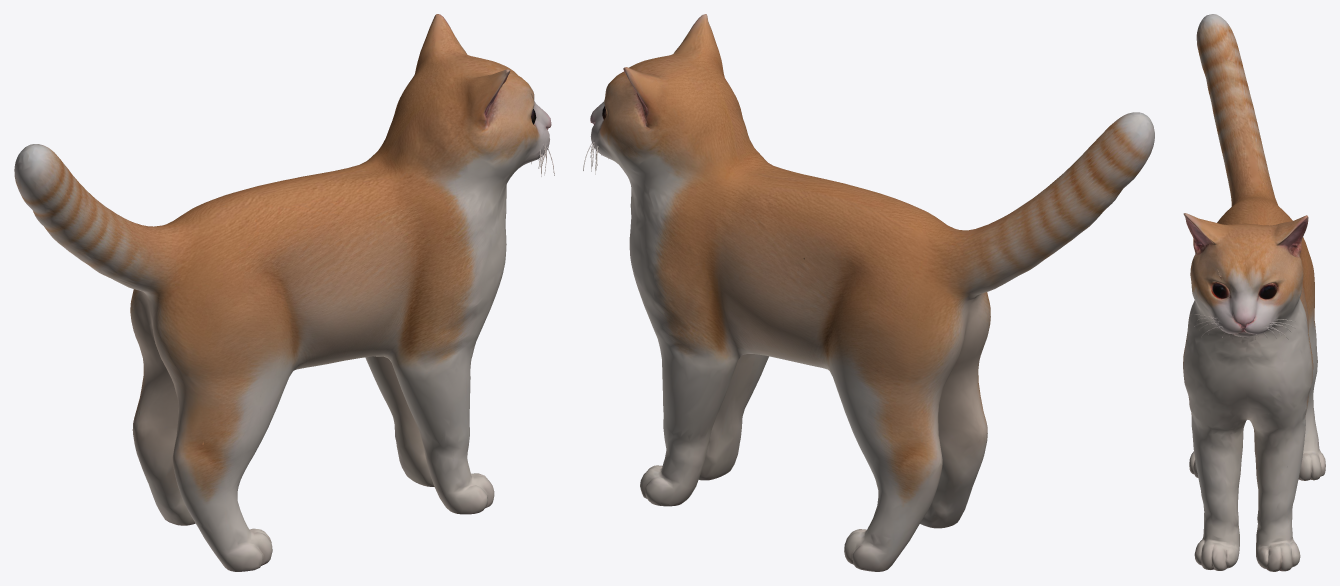
Rendered from GANYHOUSE.glb.
3 renders of one model, left to right at view 1: azimuth 30°, elevation 25°; view 2: azimuth 150°, elevation 25°; view 3: azimuth 270°, elevation 25°, orthographic. The views are drawn at different scales.
Parts seen in each view (by area): view 1: material; view 2: material; view 3: material.
Part boxes in pixels (left/top/right/bottom): material: left=14, top=14, right=554, bottom=571; material: left=583, top=14, right=1154, bottom=571; material: left=1183, top=14, right=1325, bottom=571.
Bounding box in the file's own units: 1.23 × 0.9996 × 0.3425.
Materials: 1 (1 with a texture image).
